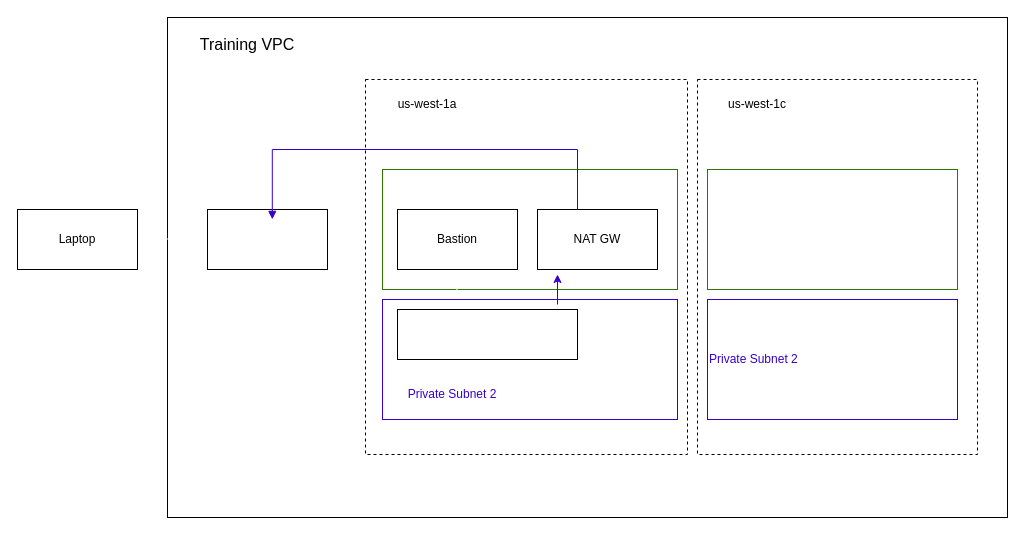
The diagram is 1025 pixels wide and 535 high, and some of its shapes have lost their labels. The box of each missing label's shape, as (x1, y1, x2, y2) in pixels:
IGW: (206, 208, 328, 270)
Private EC2: (396, 308, 578, 360)
